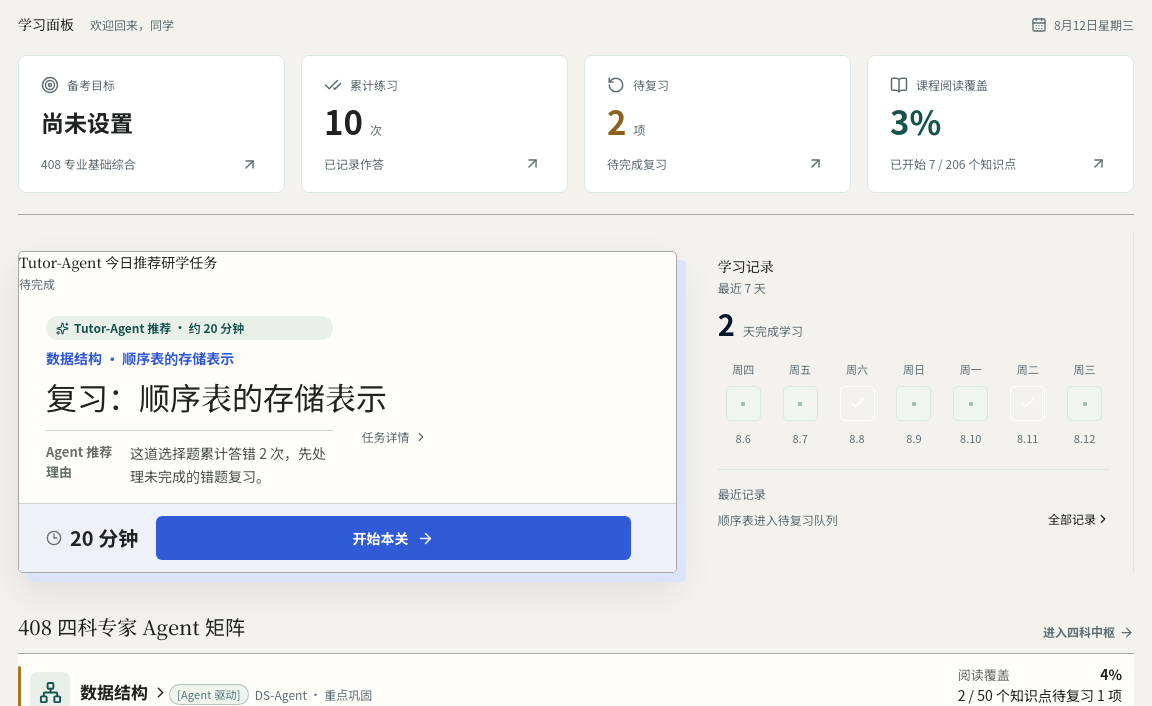
Test: HomePage evidence-backed orchestration › centers the single next task and its completion contract
Expected: the heading "复习：顺序表的存储表示" is shown, [46,374,387,419]
Expected: the element named "累计练习次数" shows "10", [324,97,363,145]
What coordinates should you click on to do the following:
click the heading "任务详情"
I would click on:
 (395, 437)
Its box is [361,428,428,446].
(page scrolled)
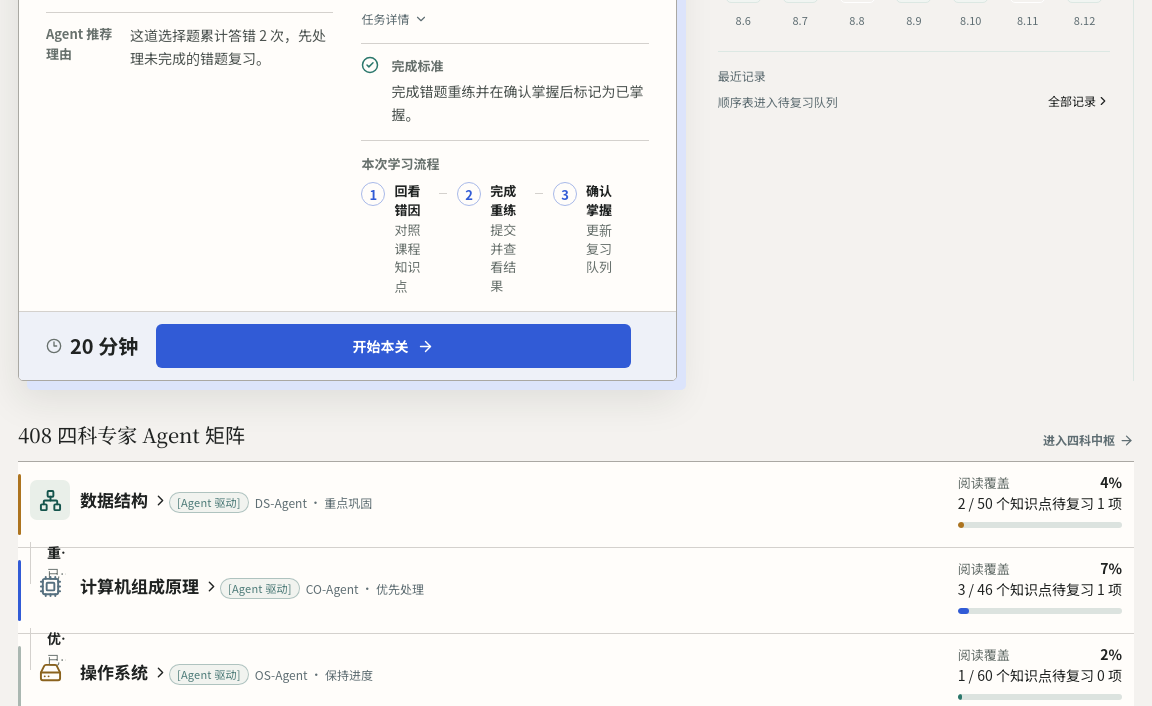
Now the list named "本次学习流程" is shown, box [361,182,649,296]
Now the text "回看错因" is shown, box [394,181,420,219]
Now the text "完成重练" is shown, box [490,181,516,219]
